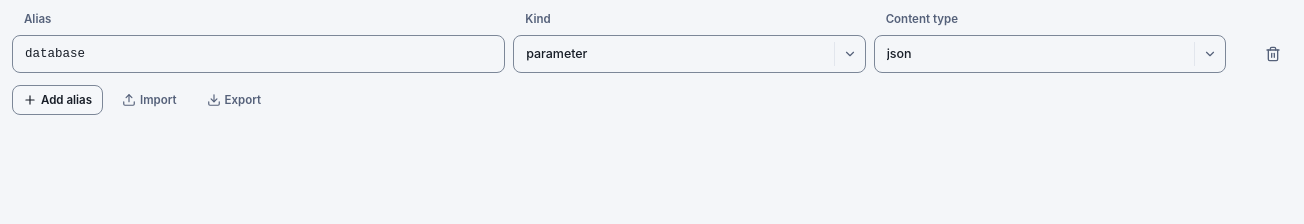
Test: ContractEditor › adds and removes rows
The width and height of the screenshot is (1304, 224).
Click the 1st button named "Add alias": {"x": 58, "y": 100} [12,85,103,115]
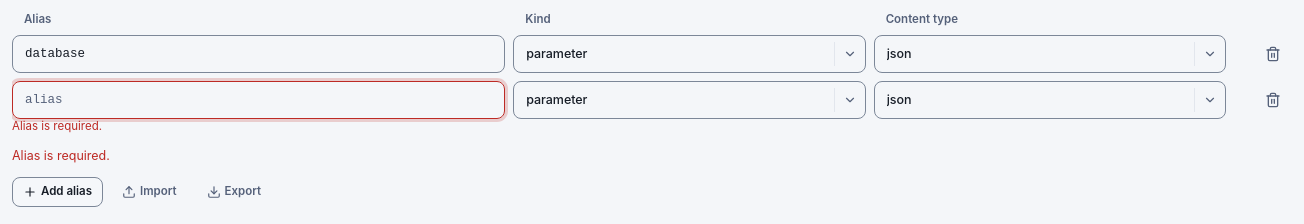
Now the number of list items is 2, box [12,35,1292,73]; [12,81,1292,135]
In the field named "Alias 2": {"x": 259, "y": 100} [12,81,505,119], type "database"
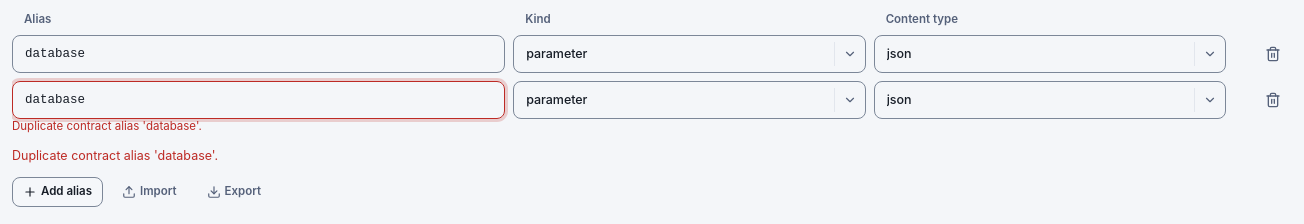
Now the message shows "Duplicate contract alias", box [12,148,218,163]
Click the 2nd button named "Remove database": {"x": 1273, "y": 100} [1254,81,1292,119]
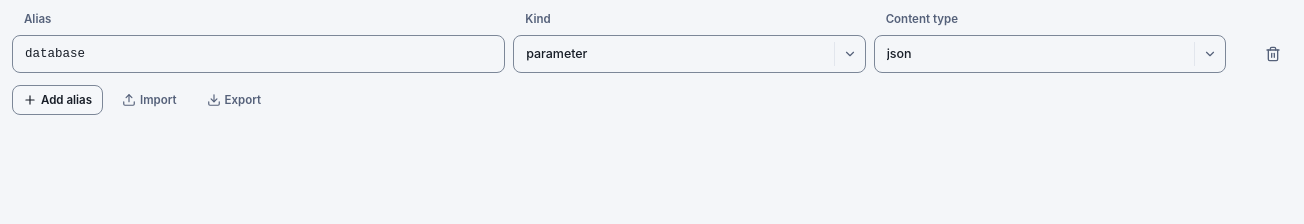
Now the number of list items is 1, box [12,35,1292,73]
Now the message "Duplicate contract alias 'database'." is gone
